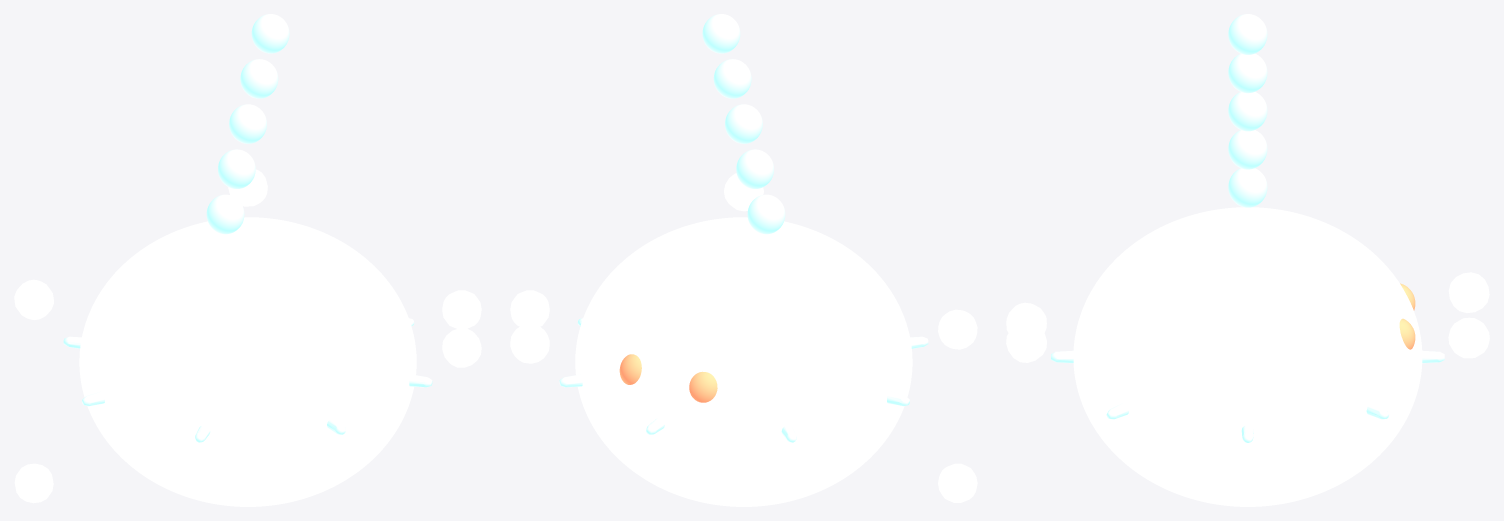
Rendered from v3_new_buffer_overflow_v3.glb.
The picture shows the model from 3 angles, left to right: view 1: azimuth 30°, elevation 25°; view 2: azimuth 150°, elevation 25°; view 3: azimuth 270°, elevation 25°; orthographic projection. The views are drawn at different scales.
Parts seen in each view (by area): view 1: bo_body, bo_chunk_4, bo_chunk_2, bo_chunk_5, bo_chunk_0, bo_chunk_3, bo_drop_0, bo_drop_4, bo_drop_3, bo_drop_1, bo_drop_2, bo_chunk_1; view 2: bo_body, bo_chunk_4, bo_chunk_1, bo_chunk_3, bo_chunk_2, bo_drop_0, bo_drop_4, bo_drop_3, bo_drop_1, bo_drop_2, bo_chunk_0, bo_chunk_5 (+2 smaller); view 3: bo_body, bo_chunk_1, bo_chunk_0, bo_chunk_2, bo_chunk_5, bo_drop_4, bo_drop_0, bo_drop_1, bo_drop_2, bo_drop_3, bo_chunk_4.
Part boxes in pixels (x1,y1,x2,y2): bo_body: [79, 217, 416, 506]; bo_chunk_4: [228, 466, 267, 505]; bo_chunk_2: [14, 279, 53, 319]; bo_chunk_5: [442, 328, 481, 367]; bo_chunk_0: [442, 290, 481, 328]; bo_chunk_3: [14, 463, 53, 503]; bo_drop_0: [206, 194, 244, 234]; bo_drop_4: [251, 14, 289, 53]; bo_drop_3: [240, 59, 278, 98]; bo_drop_1: [218, 149, 255, 188]; bo_drop_2: [229, 104, 266, 143]; bo_chunk_1: [228, 169, 267, 206]; bo_body: [575, 217, 912, 506]; bo_chunk_4: [938, 309, 977, 349]; bo_chunk_1: [510, 324, 549, 363]; bo_chunk_3: [938, 463, 977, 502]; bo_chunk_2: [724, 437, 763, 475]; bo_drop_0: [747, 194, 785, 234]; bo_drop_4: [702, 14, 740, 53]; bo_drop_3: [713, 59, 751, 98]; bo_drop_1: [736, 149, 773, 188]; bo_drop_2: [725, 104, 762, 143]; bo_chunk_0: [510, 290, 549, 326]; bo_chunk_5: [724, 173, 763, 211]; bo_body: [1073, 207, 1422, 506]; bo_chunk_1: [1448, 317, 1489, 358]; bo_chunk_0: [1227, 444, 1267, 485]; bo_chunk_2: [1448, 272, 1489, 312]; bo_chunk_5: [1006, 322, 1046, 362]; bo_drop_4: [1228, 14, 1267, 54]; bo_drop_0: [1228, 168, 1267, 207]; bo_drop_1: [1228, 130, 1267, 169]; bo_drop_2: [1228, 92, 1267, 131]; bo_drop_3: [1228, 53, 1267, 93]; bo_chunk_4: [1006, 302, 1046, 332].
Size of the model in its own units: 2.05 by 1.99 by 1.8.
